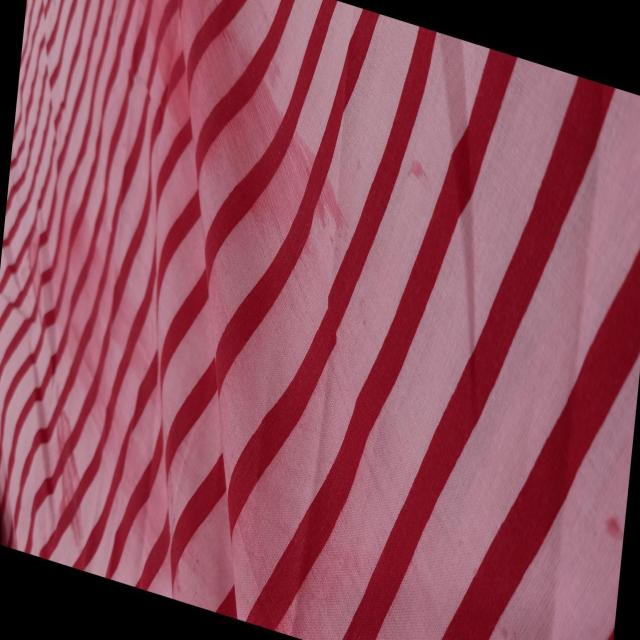baekra: (184, 247, 398, 640), (88, 0, 369, 277), (0, 180, 178, 582)
stain: (594, 500, 626, 581), (487, 619, 570, 640)
